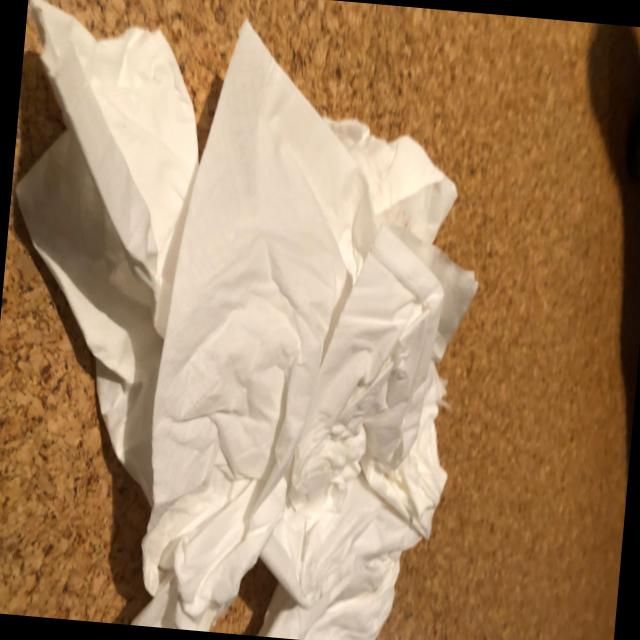organic waste: (133, 12, 485, 640), (0, 0, 215, 500), (297, 107, 493, 359), (250, 541, 404, 640)
